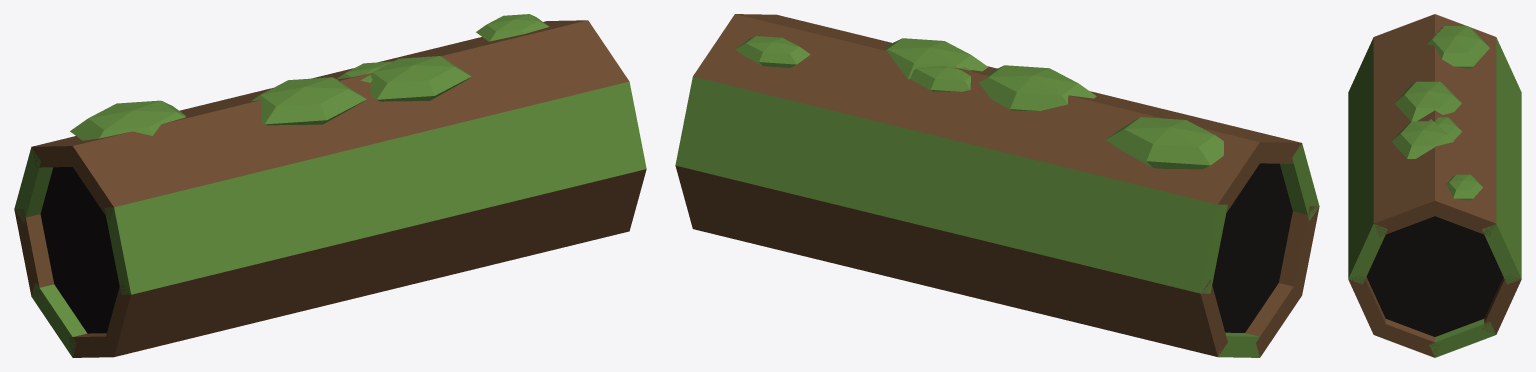
Rendered from stump_2.glb.
3 renders of one model, left to right at view 1: azimuth 30°, elevation 25°; view 2: azimuth 150°, elevation 25°; view 3: azimuth 270°, elevation 25°, orthographic. The views are drawn at different scales.
Visible parts, largest first — view 1: nature_stump_hollow_log; view 2: nature_stump_hollow_log; view 3: nature_stump_hollow_log.
Boxes of the visible parts, bbox=[...] form: nature_stump_hollow_log: bbox=[14, 14, 646, 357]; nature_stump_hollow_log: bbox=[675, 14, 1319, 357]; nature_stump_hollow_log: bbox=[1348, 14, 1521, 357].
Size of the model in its own units: 2.8 by 1.14 by 1.1.
